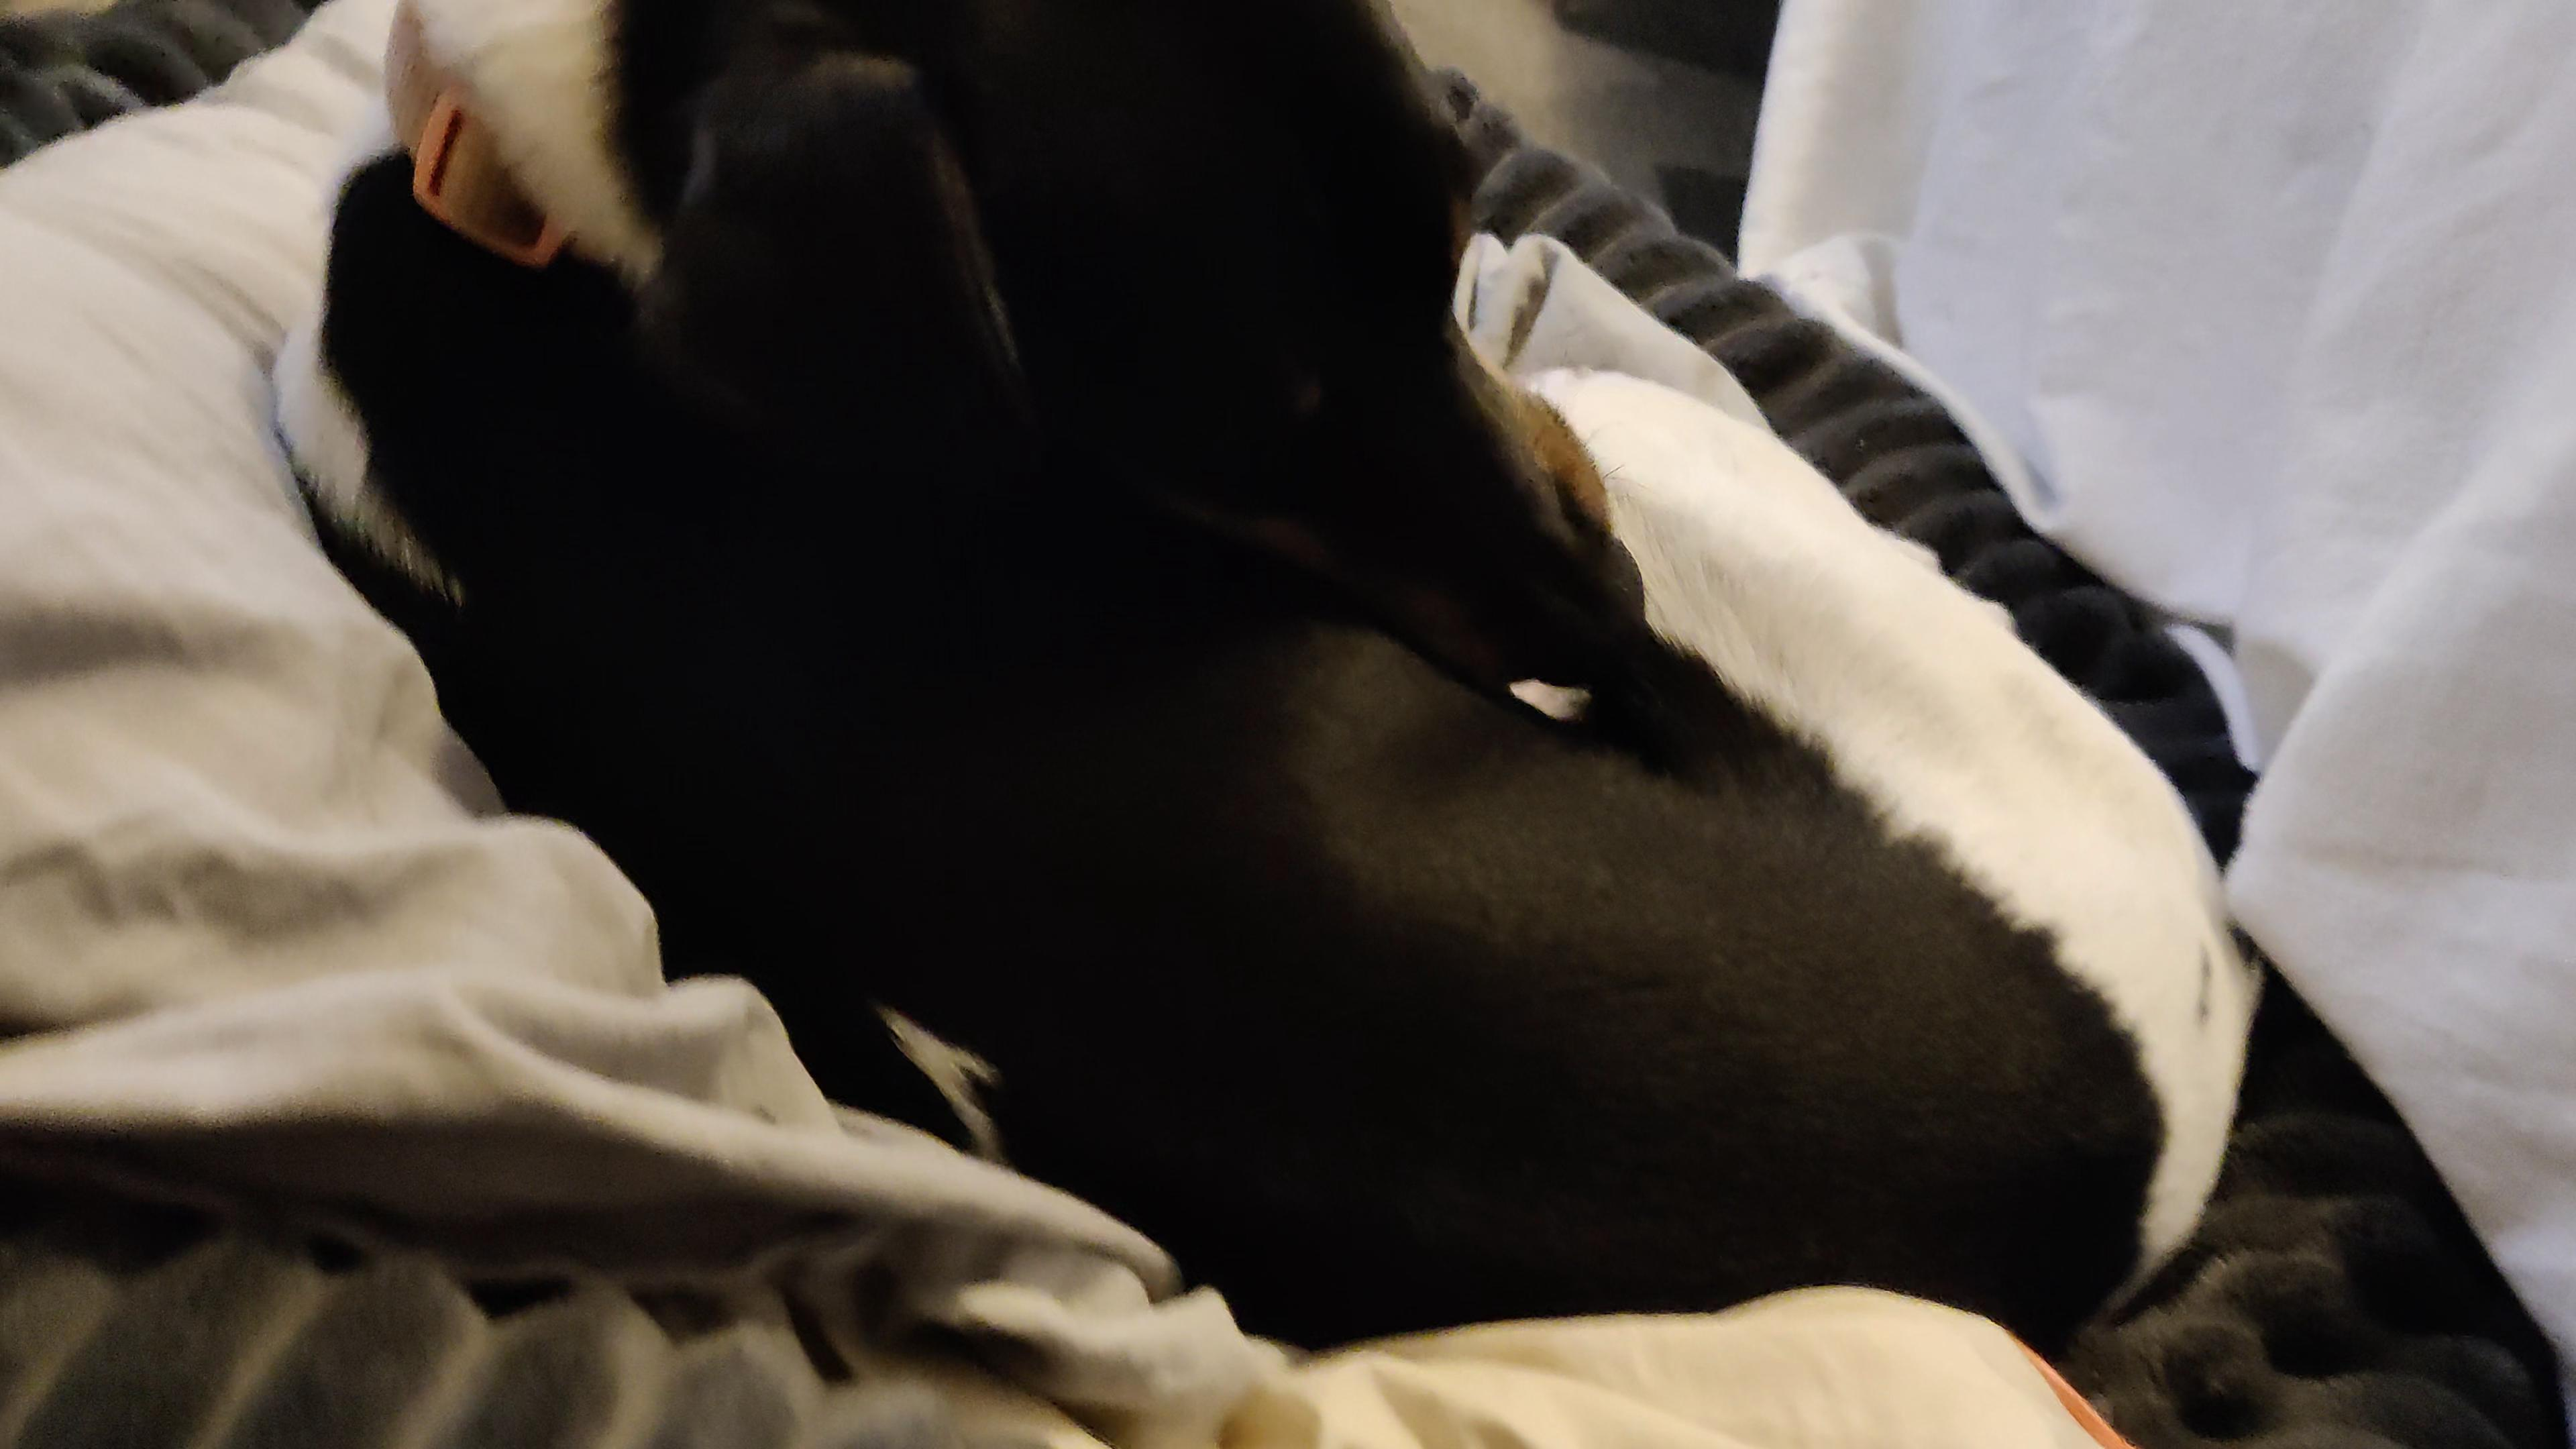Dog: (248, 0, 2302, 1376)
